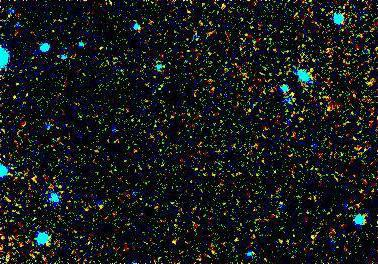star: (281, 79, 311, 109)
